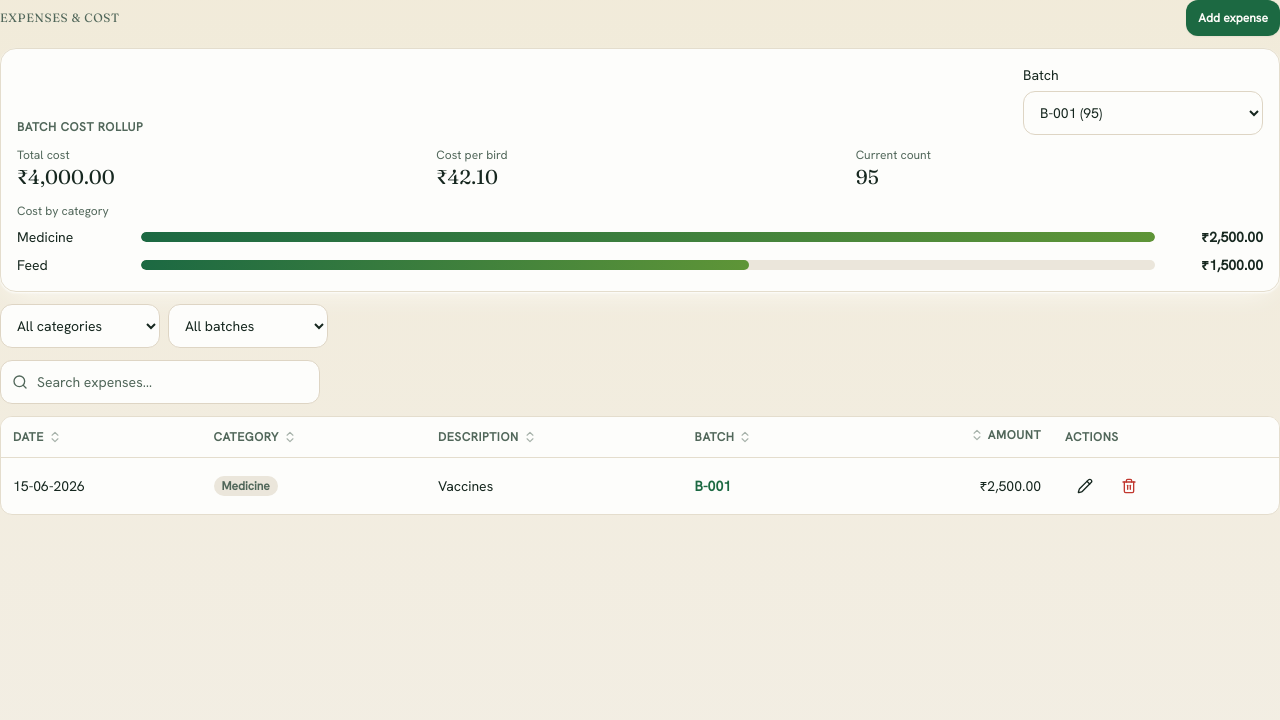
Test case: ExpensesPanel edit/delete (slice 11.9) › deletes an expense behind a danger confirm dialog (DELETE + toast)
expect the text "Vaccines" is shown: met, box [426,457,683,514]
Click the button named "Delete expense": (1129, 486) [1109,468,1149,504]
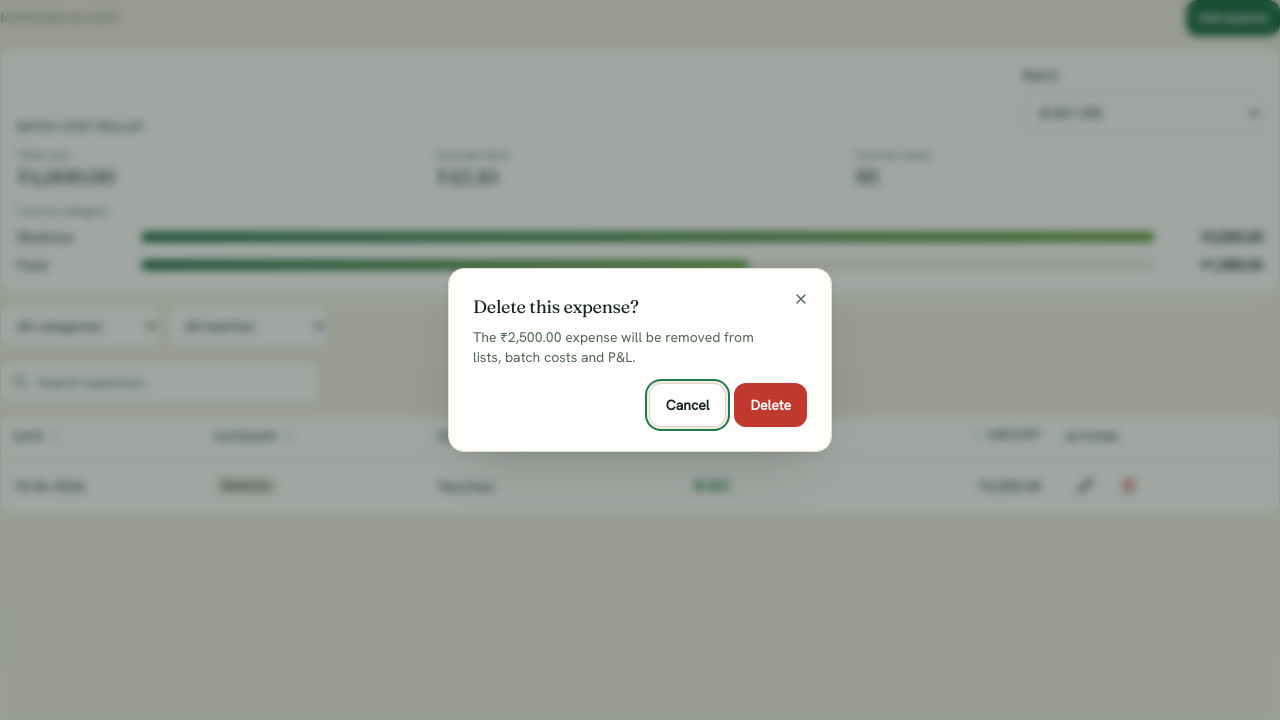
expect the heading "Delete this expense?" is shown: met, box [473,295,638,318]
Click the button "Delete": (771, 405) [734,383,807,427]
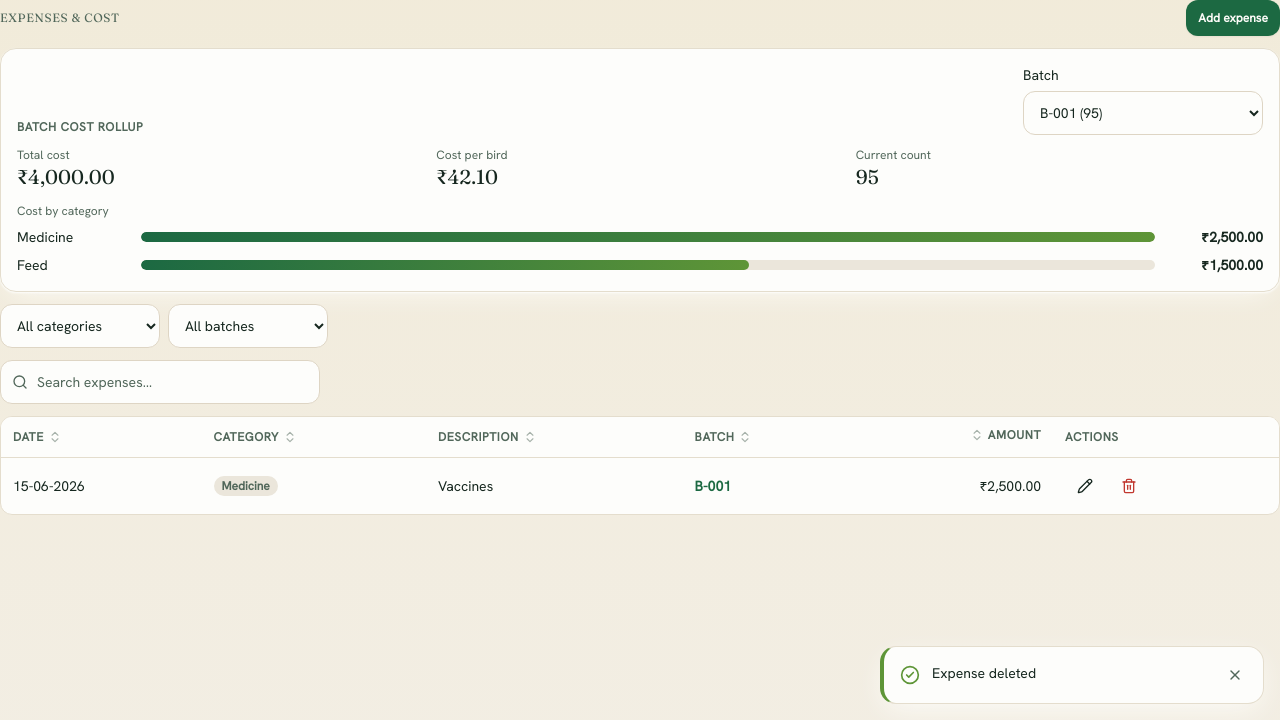
expect the text "Expense deleted" is shown: met, box [932,664,1036,682]
